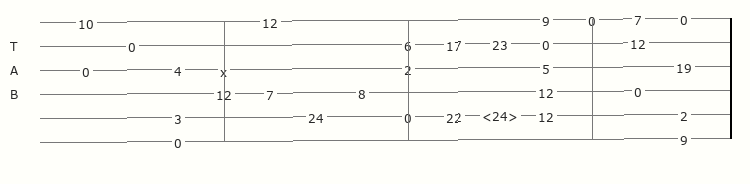0: (82, 62, 94, 75), (128, 38, 140, 51), (174, 134, 186, 147), (404, 110, 416, 123), (542, 38, 554, 51), (588, 14, 600, 27), (634, 86, 646, 99), (680, 14, 692, 27)
10: (78, 14, 98, 27)
12: (216, 86, 236, 99), (262, 14, 282, 27), (538, 110, 558, 123), (538, 86, 558, 99), (630, 38, 650, 51)
17: (446, 38, 466, 51)
19: (676, 62, 696, 75)
2: (404, 62, 416, 75), (680, 110, 692, 123)
22: (446, 110, 466, 123)
23: (492, 38, 512, 51)
24: (308, 110, 328, 123)
3: (174, 110, 186, 123)
4: (174, 62, 186, 75)
5: (542, 62, 554, 75)
6: (404, 38, 416, 51)
7: (266, 86, 278, 99), (634, 14, 646, 27)
8: (358, 86, 370, 99)
9: (542, 14, 554, 27), (680, 134, 692, 147)
harmonic: (482, 109, 522, 123)
x: (220, 63, 231, 74)
